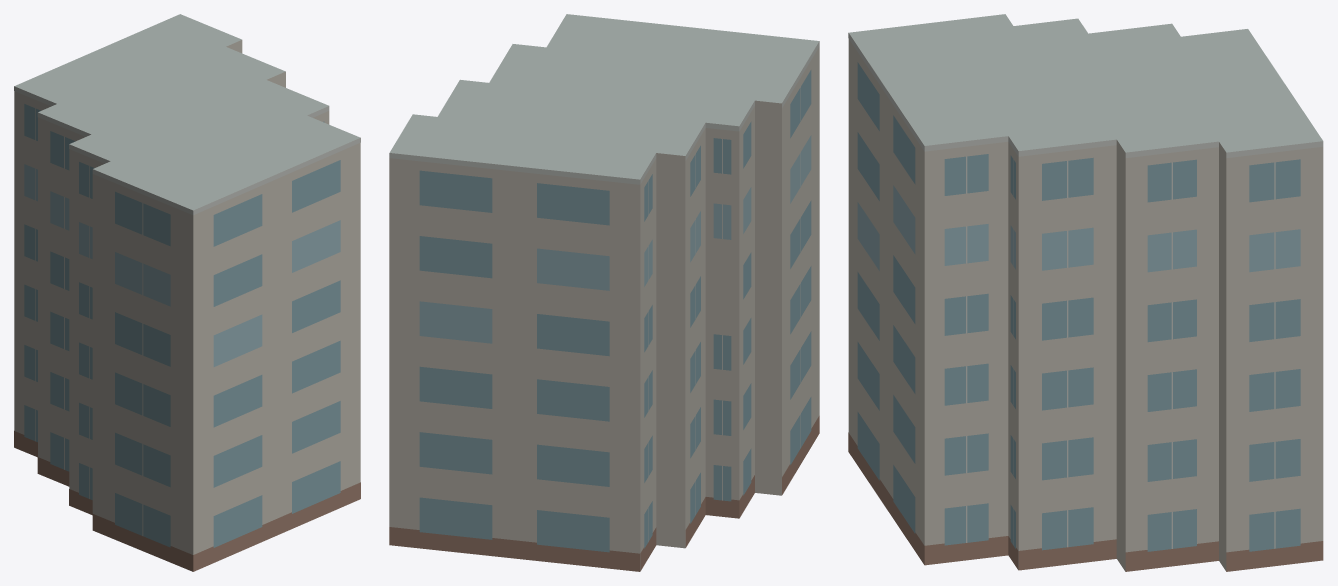
Rendered from survey-upis-32658334.glb.
3 views of the same model, side by side, from view 1: azimuth 30°, elevation 25°; view 2: azimuth 150°, elevation 25°; view 3: azimuth 270°, elevation 25° (orthographic). The views are drawn at different scales.
Parts seen in each view (by area): view 1: survey-upis-32658334.tmp; view 2: survey-upis-32658334.tmp; view 3: survey-upis-32658334.tmp.
Part boxes in pixels (x1,y1,x2,y2): survey-upis-32658334.tmp: (14, 14, 360, 571); survey-upis-32658334.tmp: (389, 14, 819, 571); survey-upis-32658334.tmp: (848, 14, 1323, 571).
Bounding box in the file's own units: 12.99 × 18.3 × 18.79.
